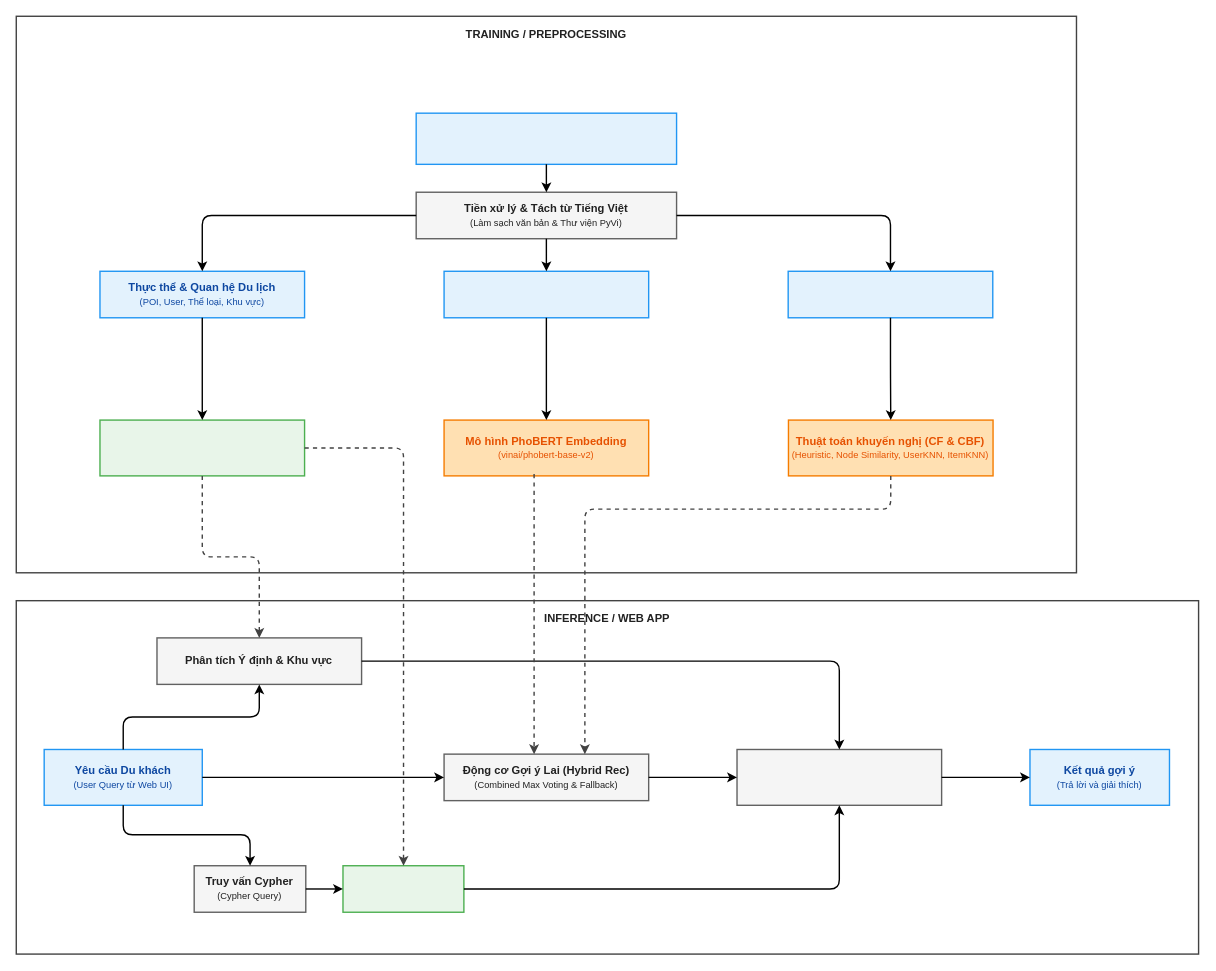
Image size: 1216x971. Some labels were removed from this diagram. The centre of each missing label's shape, as x and y in pixels:
"CSDL Đồ thị Neo4j" goes at pixel 403 889.
"Dữ liệu Du lịch TripAdvisor (Địa điểm POI, Đánh giá, Người dùng)" goes at pixel 546 138.
"Dữ liệu Tương tác & Đồ thị (Lịch sử đánh giá & Liên kết nút)" goes at pixel 890 294.
"Trợ lý AI GraphRAG & LLM (Qwen2.5-1.5B Context Fusion)" goes at pixel 839 777.
"Văn bản Mô tả Địa điểm (Nội dung giới thiệu POI)" goes at pixel 546 294.
"Đồ thị Tri thức Neo4j (Neo4j Knowledge Graph)" goes at pixel 202 447.
